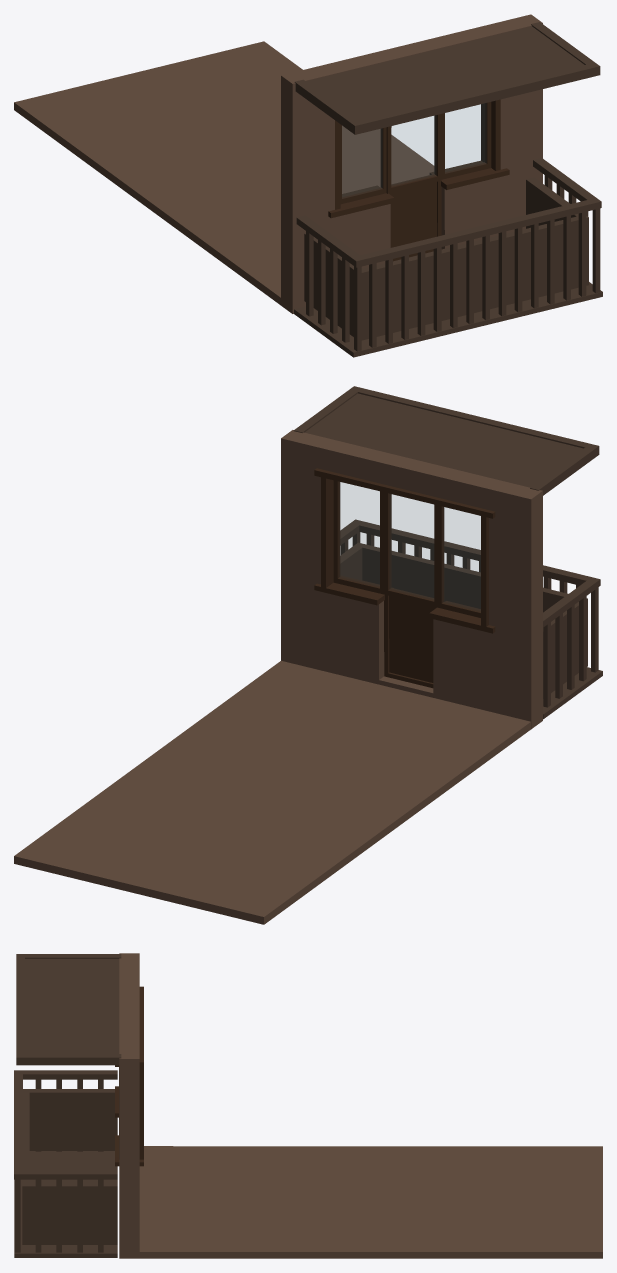
Rendered from Middle_floor_Balcony_type3.FBX.
The picture shows the model from 3 angles, top to bottom: view 1: azimuth 30°, elevation 25°; view 2: azimuth 150°, elevation 25°; view 3: azimuth 270°, elevation 25°; orthographic projection. The views are drawn at different scales.
Visible parts, largest first — view 1: Hub_3_balcony_020, Balcony_door_008; view 2: Hub_3_balcony_020, Balcony_door_008; view 3: Hub_3_balcony_020.
Boxes of the visible parts, box(x1,y1,x2,y2) form: Hub_3_balcony_020: box(14, 14, 602, 357); Balcony_door_008: box(386, 114, 441, 261); Hub_3_balcony_020: box(14, 386, 602, 924); Balcony_door_008: box(384, 492, 438, 688); Hub_3_balcony_020: box(14, 953, 602, 1258).
Bounding box in the file's own units: 319 × 748 × 281.
